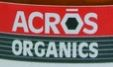AcrosOrganics: (10, 8, 101, 60)
